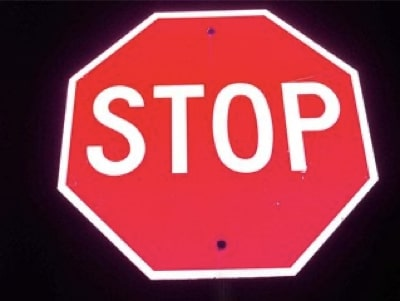StopSign: (55, 7, 382, 282)
